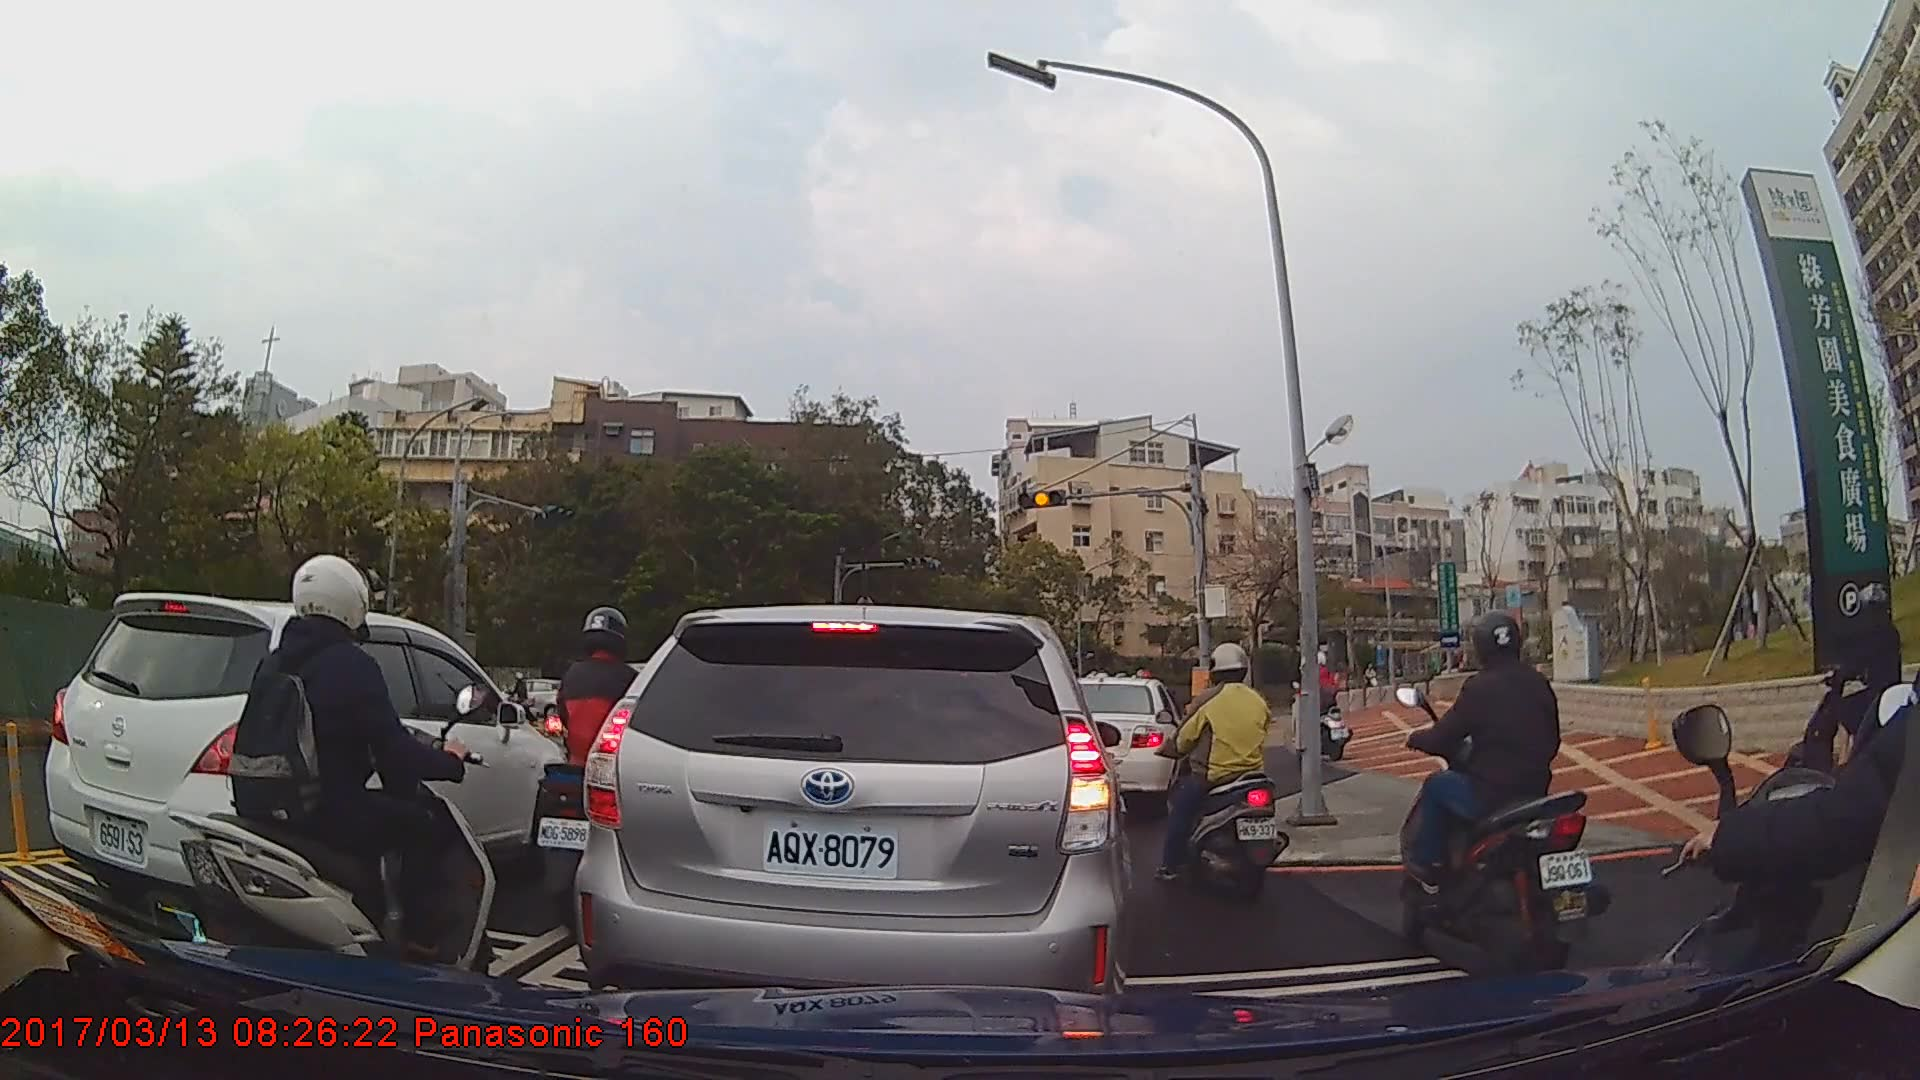pedestrian: (1738, 565, 1780, 643), (1730, 579, 1766, 645)
rider: (177, 550, 499, 1017), (1388, 607, 1605, 975), (532, 606, 672, 923), (1157, 639, 1287, 895), (1775, 576, 1914, 800), (1287, 647, 1355, 762)
vehicle: (569, 602, 1132, 1032), (41, 591, 573, 927), (1066, 673, 1190, 810), (497, 677, 569, 722)
